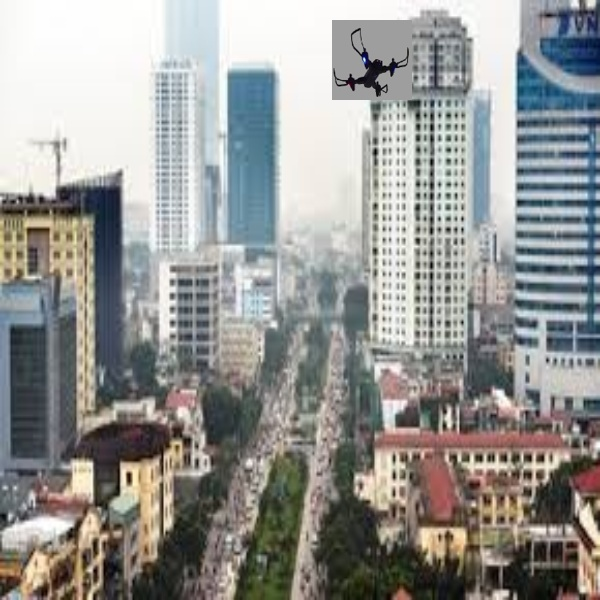drone: (332, 23, 413, 100)
